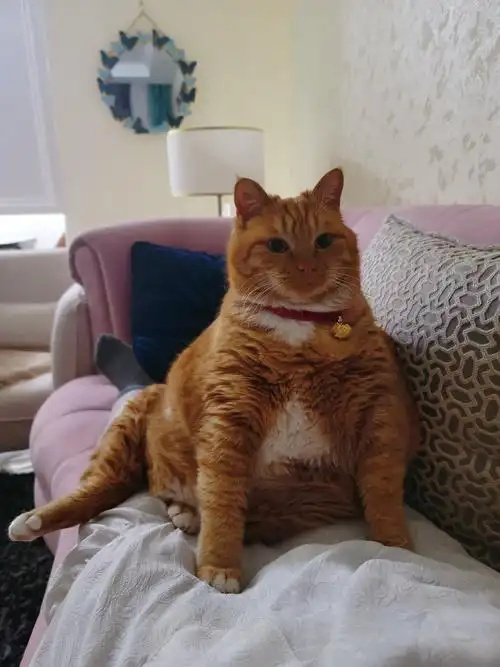橘猫: (11, 169, 418, 591), (194, 170, 407, 446)
